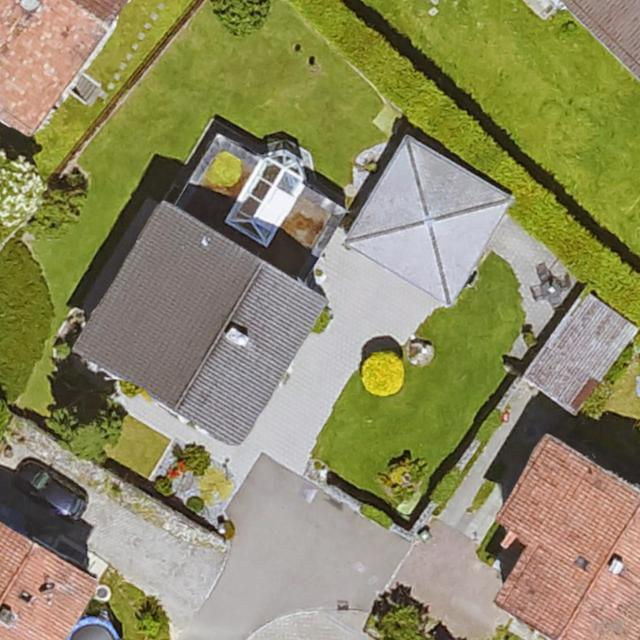tree: (49, 393, 120, 459), (0, 163, 39, 225), (216, 0, 271, 36), (376, 607, 429, 640)
